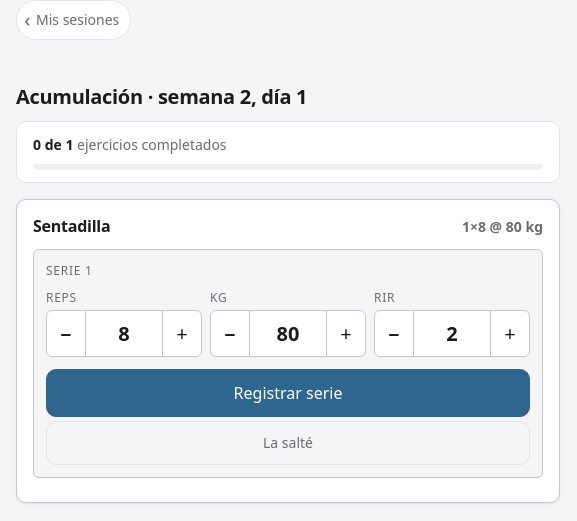
Test case: empujar el número en vez de escribirlo › «+» sube y «−» baja
expect the field named "Reps" holds "8": met, box 86,310 -> 162,357
Click the button named "Subir Reps". click: point(182, 333)
box: 162,310 -> 202,357
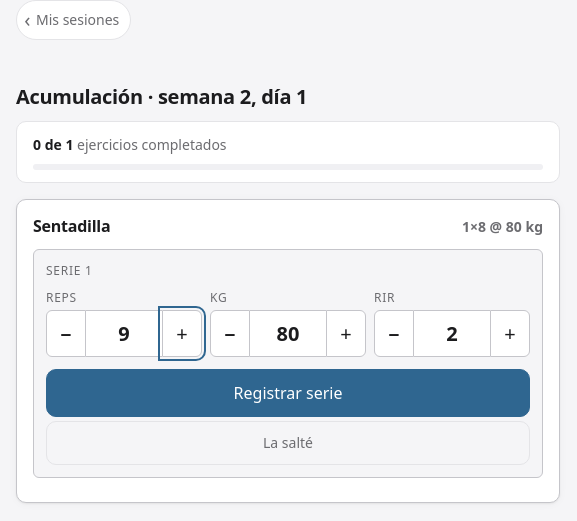
expect the field named "Reps" holds "9": met, box 86,310 -> 162,357
Click the button named "Bajar Reps". click: point(66, 333)
box: 46,310 -> 86,357
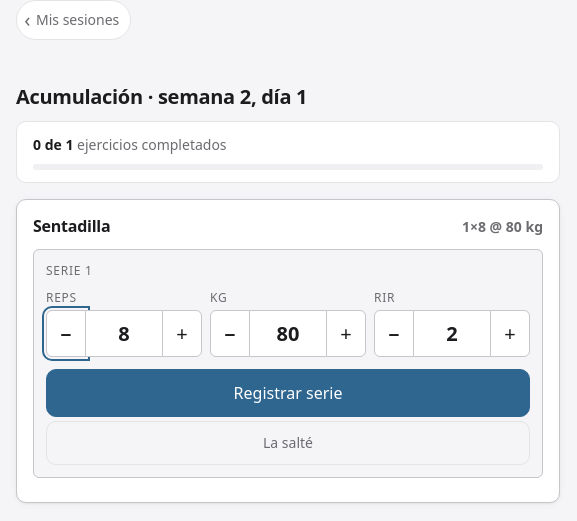
Click the button named "Bajar Reps". click: point(66, 333)
box: 46,310 -> 86,357
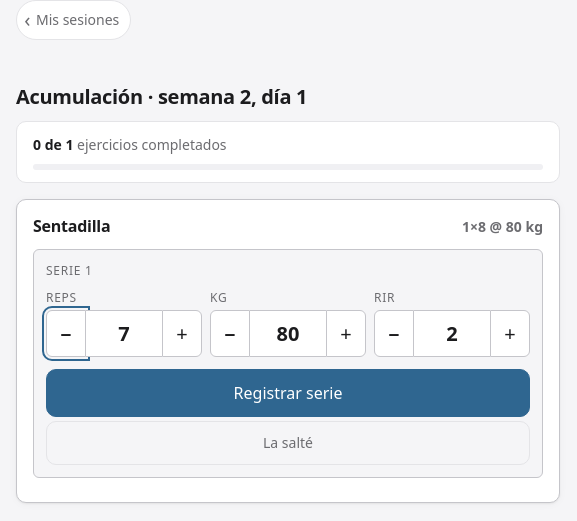
expect the field named "Reps" holds "7": met, box 86,310 -> 162,357
